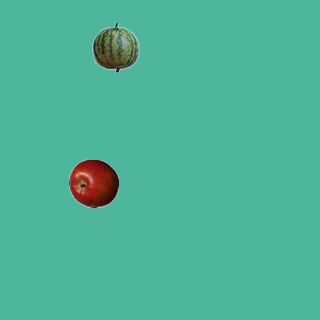Apple Braeburn: (68, 158, 118, 208)
Watermelon: (90, 22, 140, 72)
